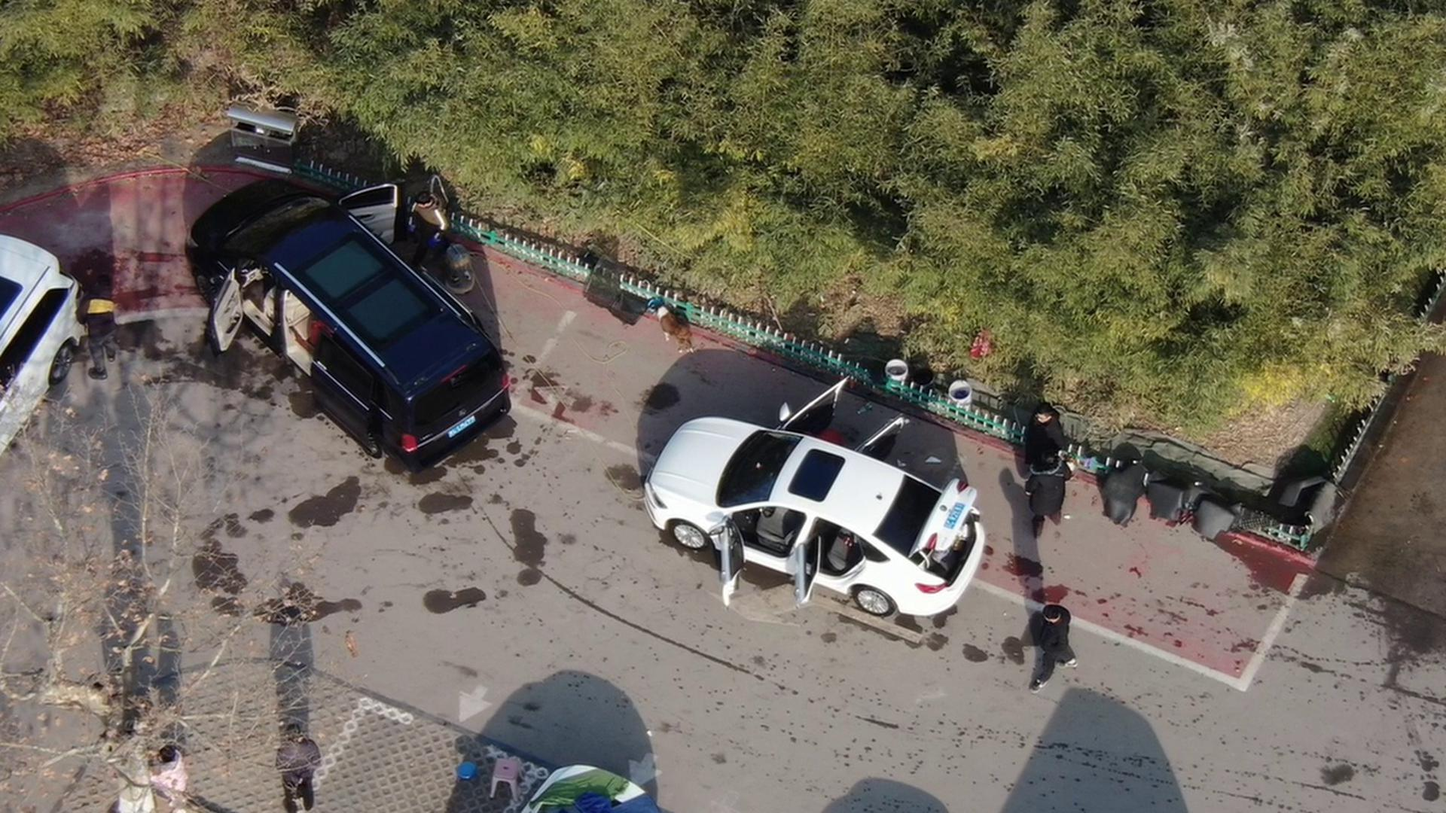human: (274, 705, 325, 813), (80, 276, 130, 379), (1030, 594, 1078, 686), (1023, 449, 1072, 537), (403, 187, 453, 268), (1029, 396, 1069, 449)
